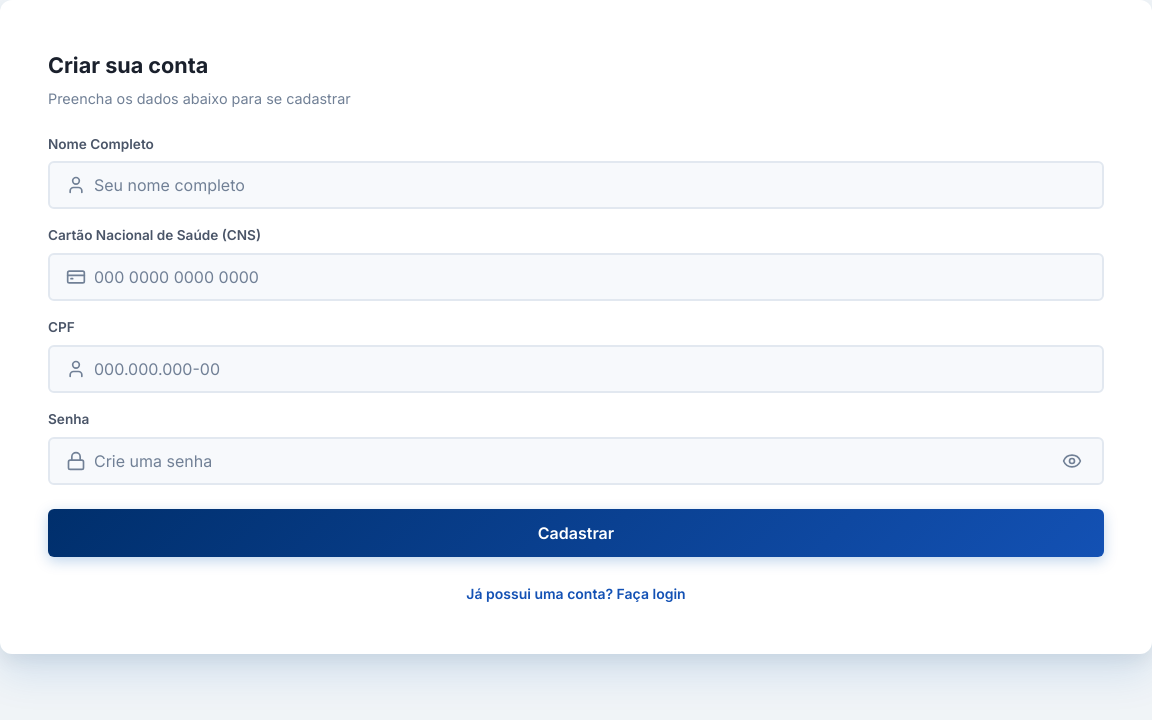
Test: 📝 RegisterForm — Validação de Formulário de Cadastro › TC-R04 | Deve rejeitar CPF com formato inválido ao submeter
Preenche nome e senha mas deixa o CPF sem o formato correto (sem pontuação)
In the field with placeholder "Seu nome completo": (590, 185) [94,167,1086,203], type "Fulano de Tal"
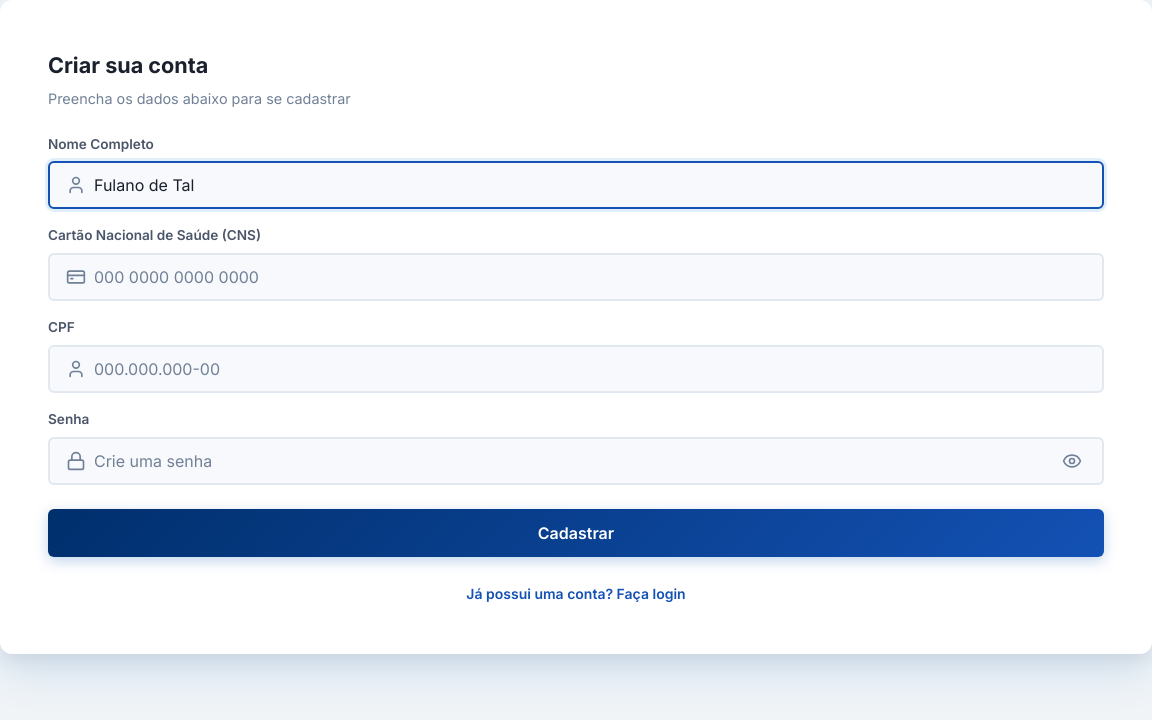
In the password field with placeholder "Crie uma senha": (576, 461) [94,443,1058,479], type "senha123"
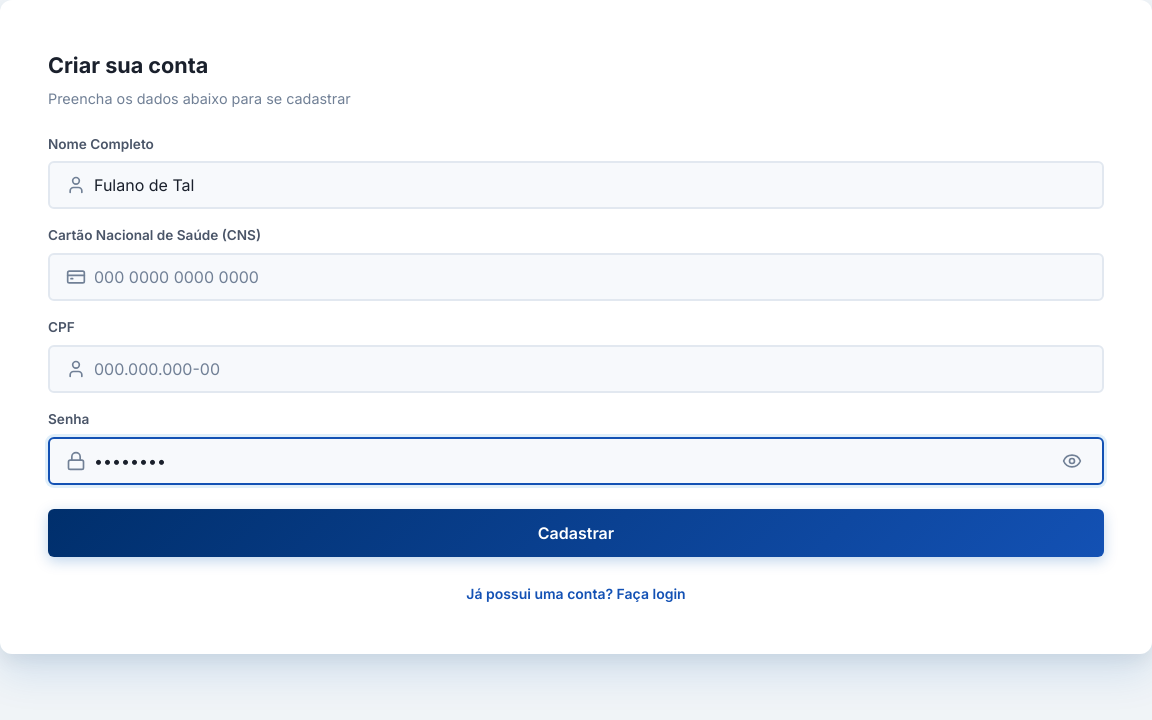
Não preenche o CPF — o Zod deve barrar com 'CPF é obrigatório'
Click the button "Cadastrar": (576, 533) [48,509,1104,557]
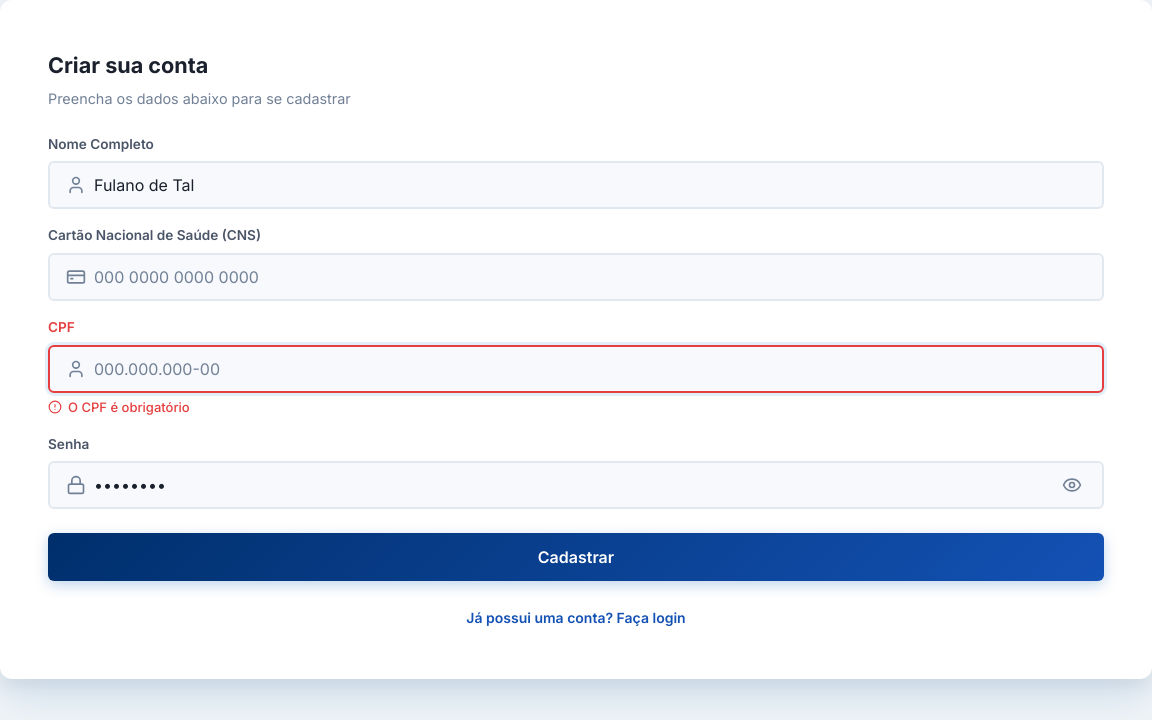
Check: the text "O CPF é obrigatório" is shown, box [48,399,190,415]
